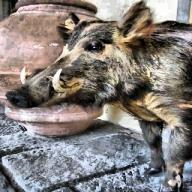boar: (6, 0, 192, 191)
